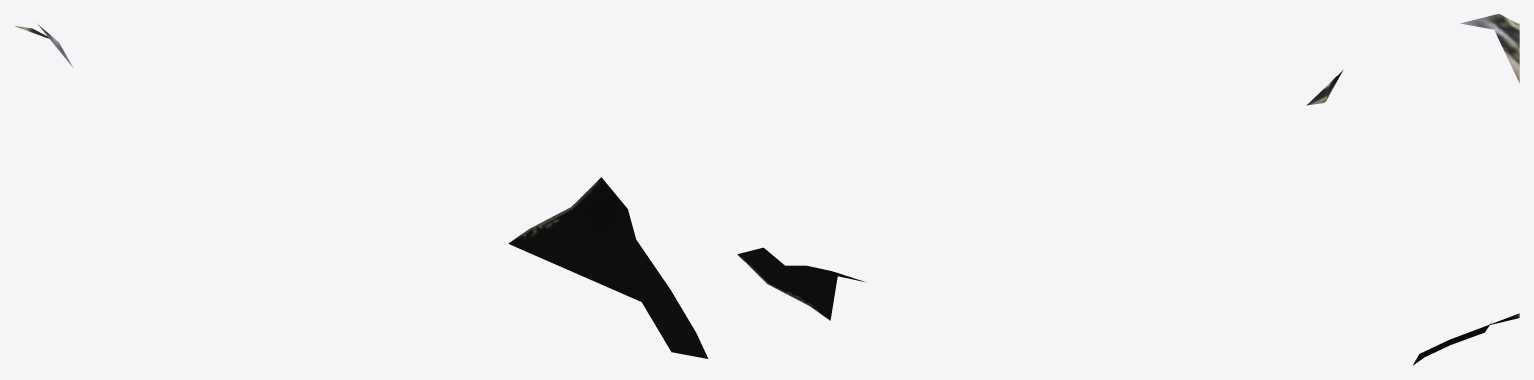
The picture shows the model from 3 angles, left to right: view 1: azimuth 30°, elevation 25°; view 2: azimuth 150°, elevation 25°; view 3: azimuth 270°, elevation 25°; orthographic projection. The views are drawn at different scales.
Size of the model in its own units: 3.35 by 2.28 by 1.06.
1 material, 1 textured.
